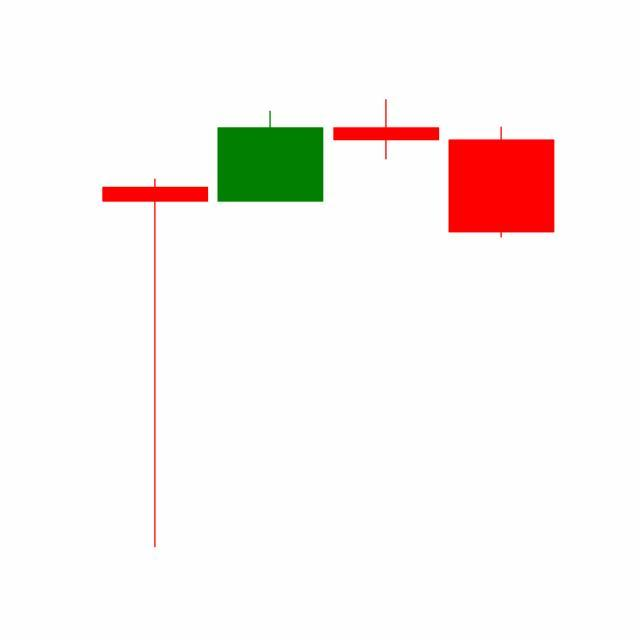Marubozu: (444, 125, 560, 240)
